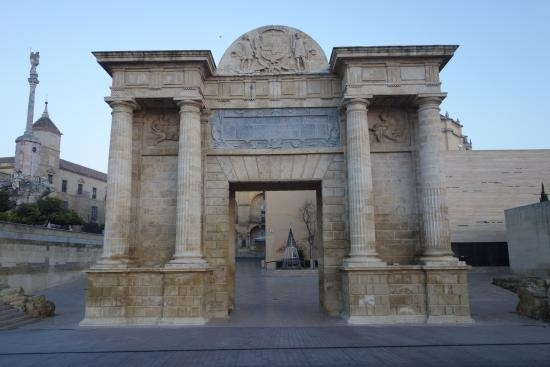vano-adintelado: (215, 167, 337, 322)
